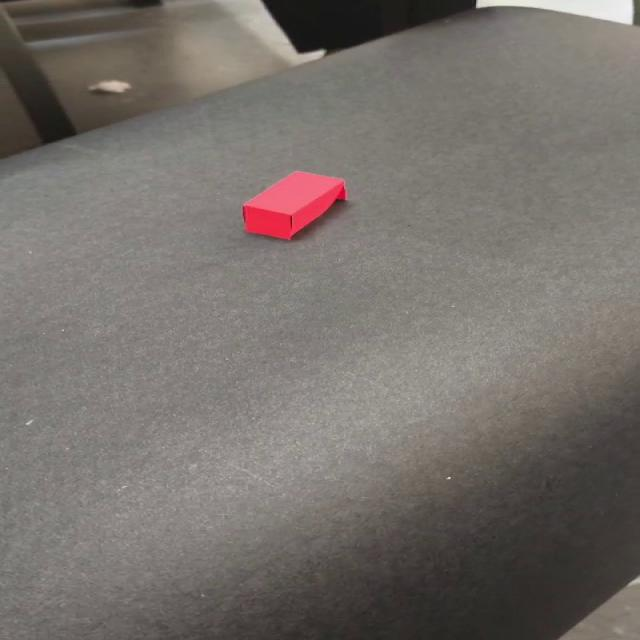red block: (240, 170, 347, 240)
